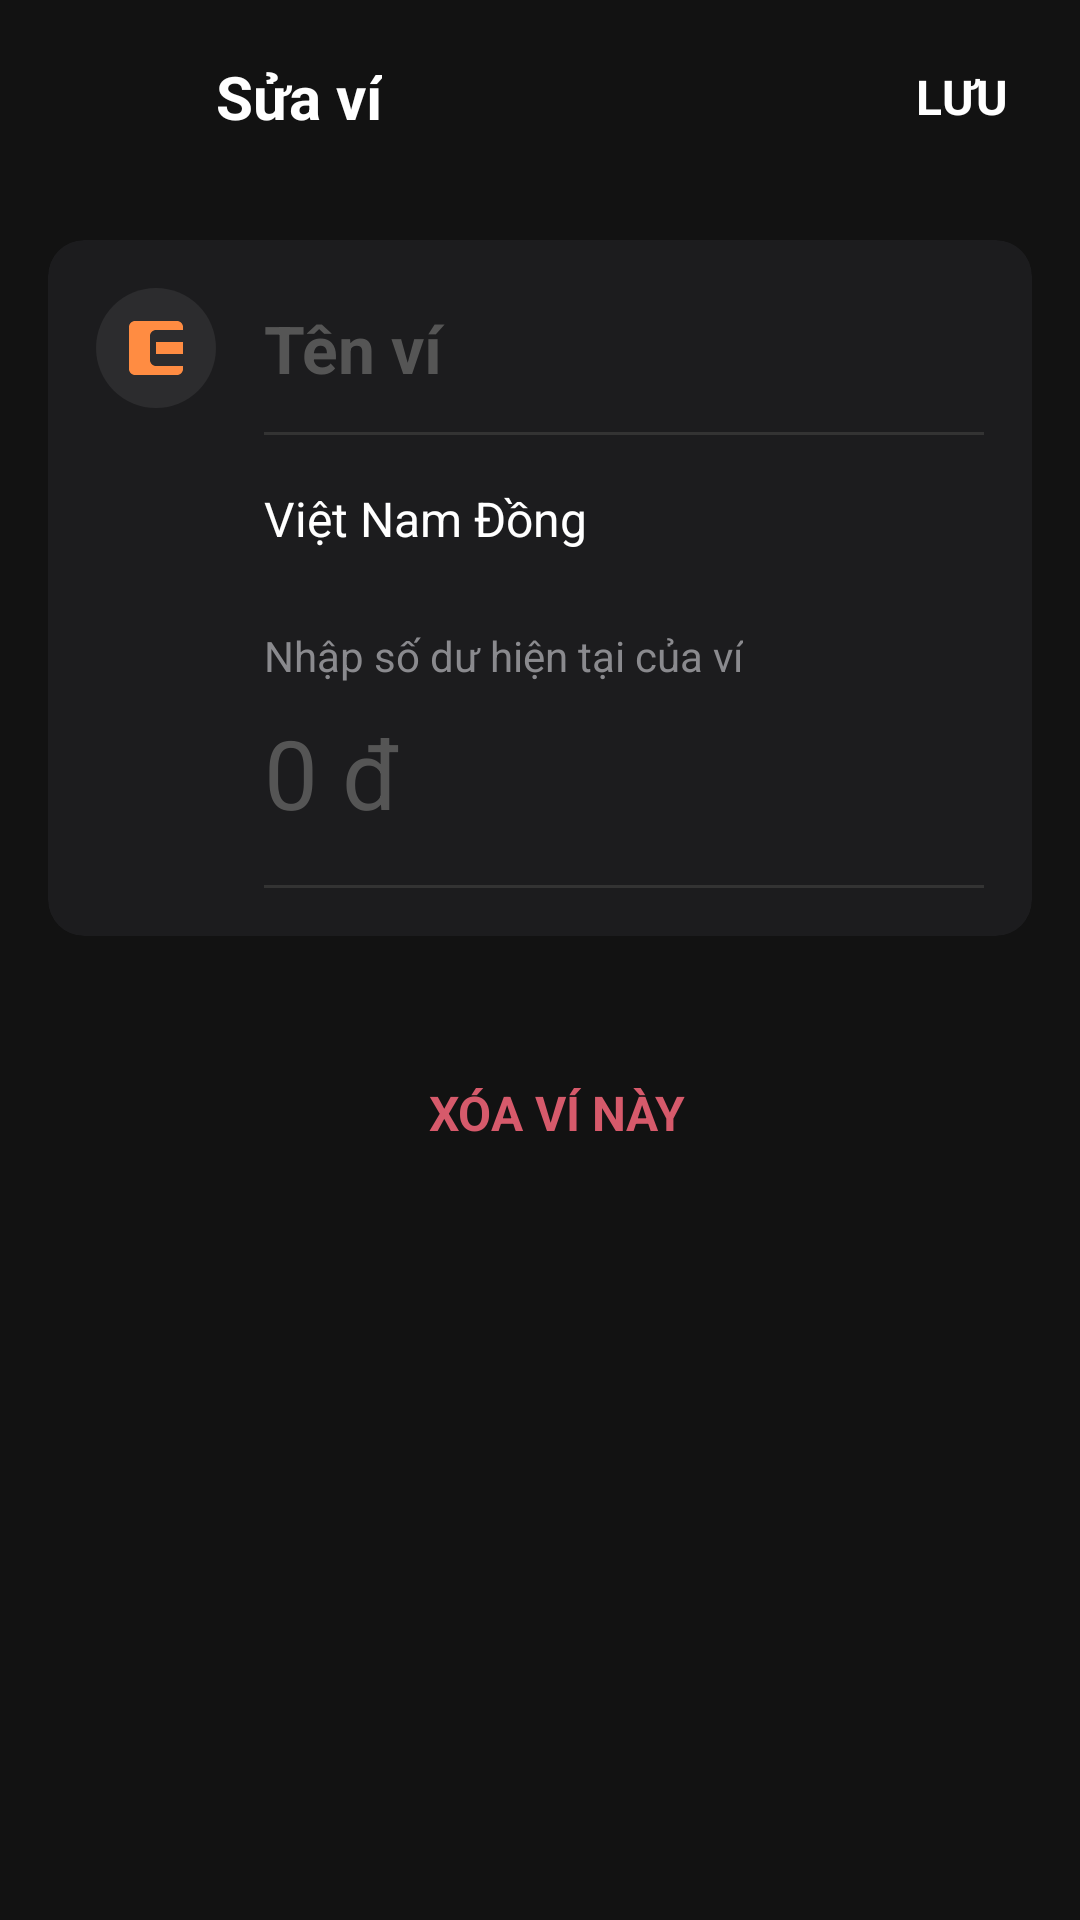

Icons on this 1080 x 1920 Android screen, each with its box as [left=x1, top=y1, right=x2, bottom=y2]:
wallet: [left=129, top=321, right=183, bottom=375]
